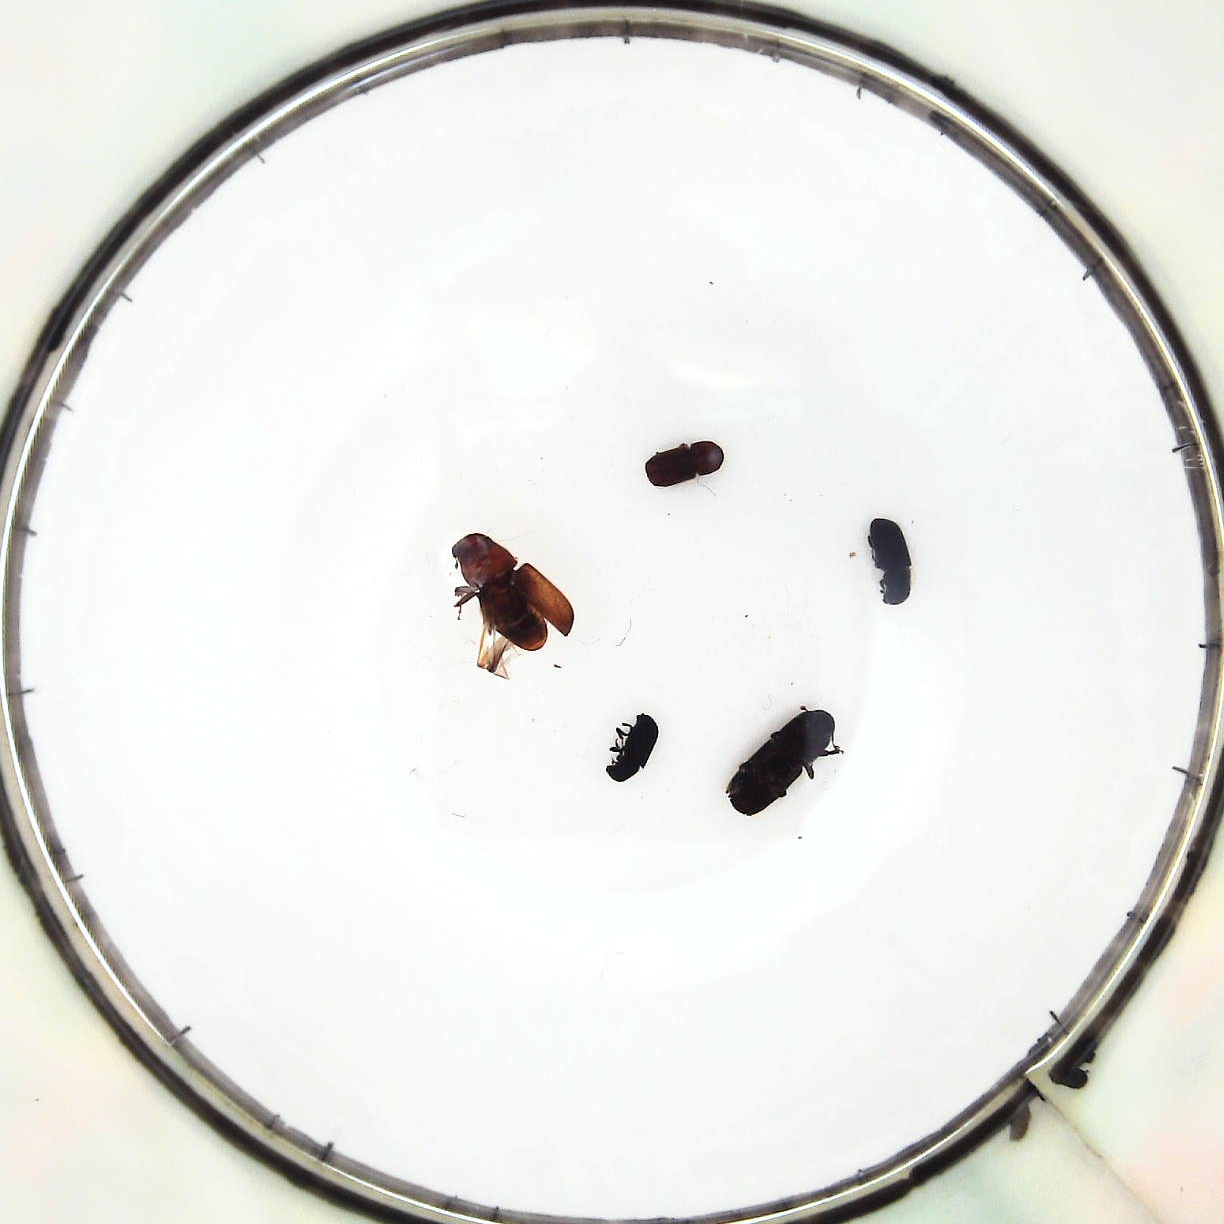Boerner: (715, 706, 841, 820)
Leconte: (451, 535, 576, 667)
Linnaeus: (641, 442, 729, 486)
armandi: (863, 518, 924, 601)
coleoptera: (605, 711, 658, 783)
